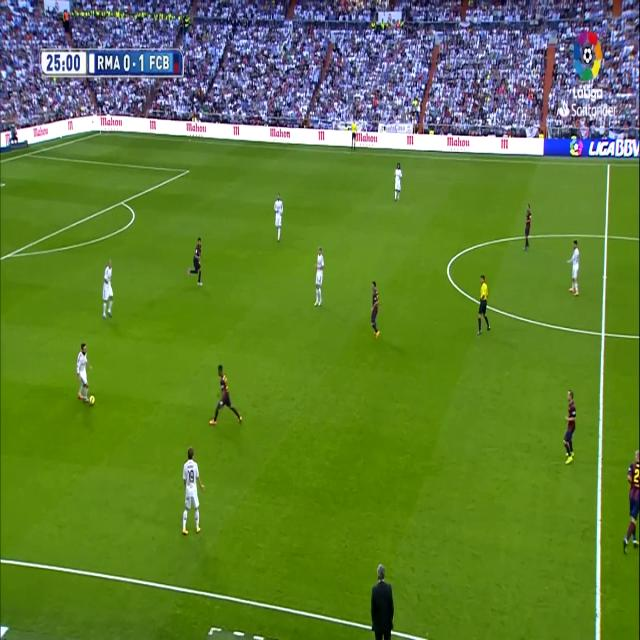bigarea_bottom_outter: (119, 194, 126, 208)
halfcircle_bottom: (598, 319, 609, 347)
halfcircle_top: (601, 225, 611, 245)
midline_top_intersection: (605, 158, 613, 171)
